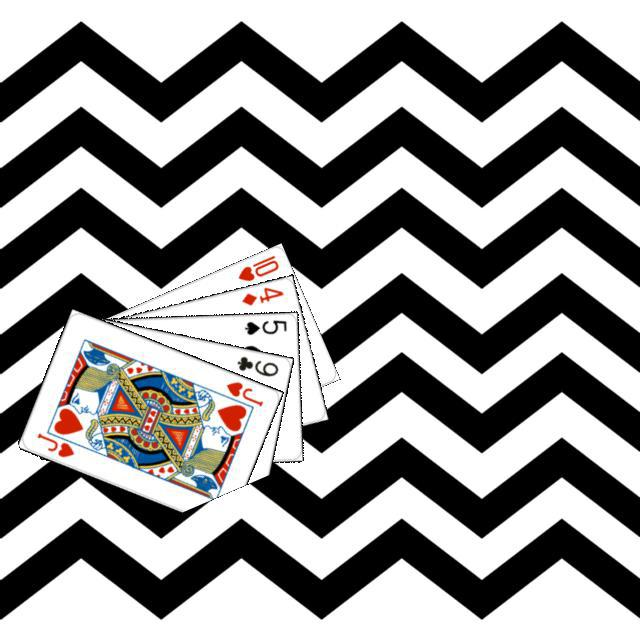10h: (233, 250, 280, 283)
4d: (237, 282, 285, 307)
5s: (240, 315, 288, 336)
9c: (232, 351, 280, 378)
Jh: (221, 377, 265, 408), (32, 428, 76, 459)
